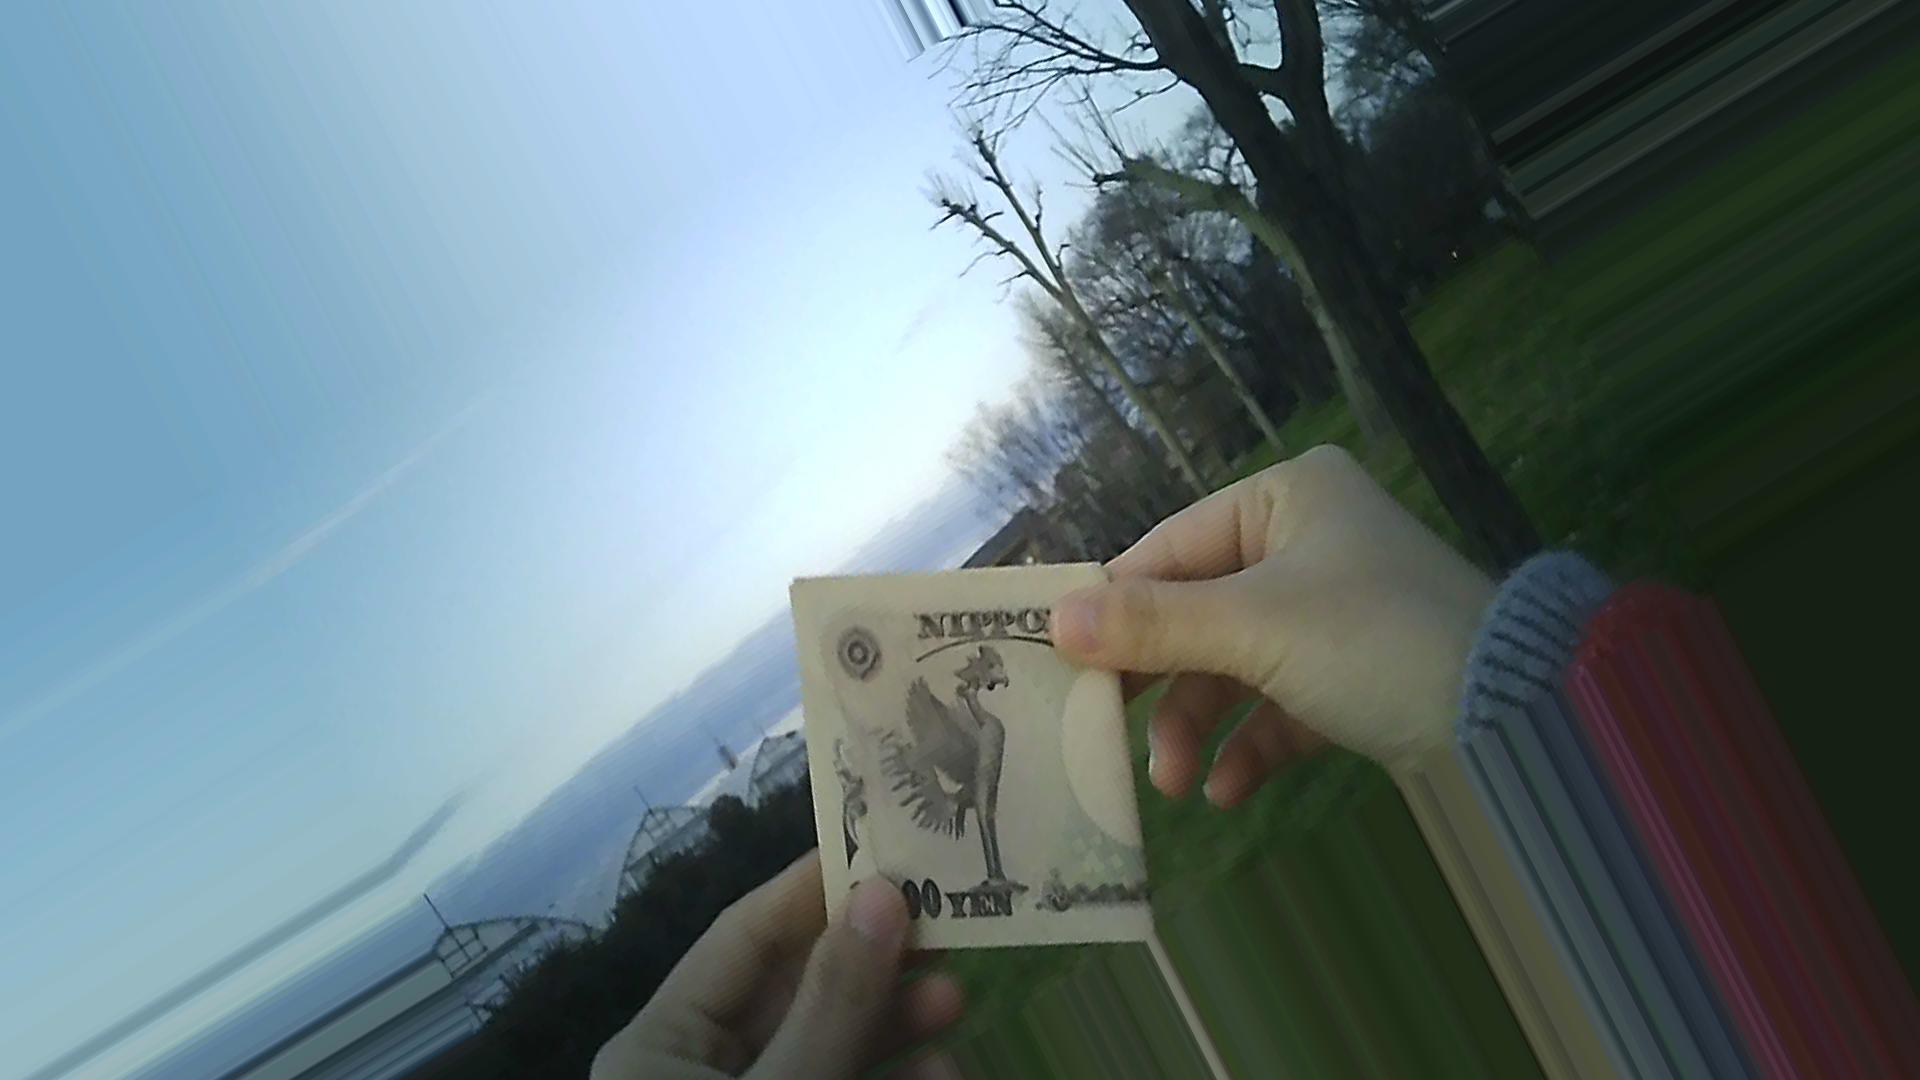10,000 Yen: (787, 562, 1168, 956)
